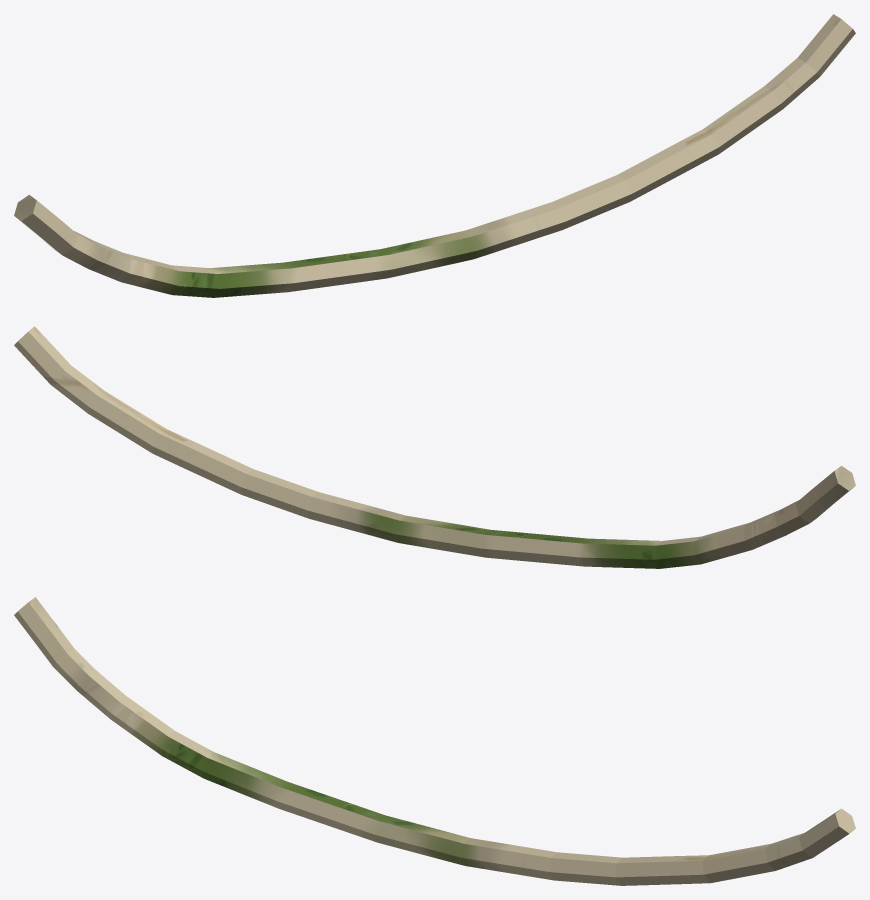
The model's file is constructionrope.fbx.
3 views of the same model, one above another, from view 1: azimuth 30°, elevation 25°; view 2: azimuth 150°, elevation 25°; view 3: azimuth 330°, elevation 25° (orthographic). The views are drawn at different scales.
Visible parts, largest first — view 1: under construction chain; view 2: under construction chain; view 3: under construction chain.
Part boxes in pixels (left/top/right/bottom): under construction chain: left=14, top=14, right=855, bottom=297; under construction chain: left=14, top=326, right=855, bottom=568; under construction chain: left=14, top=597, right=855, bottom=885.
Size of the model in its own units: 1230 by 243 by 95.05.
1 material, 1 textured.
